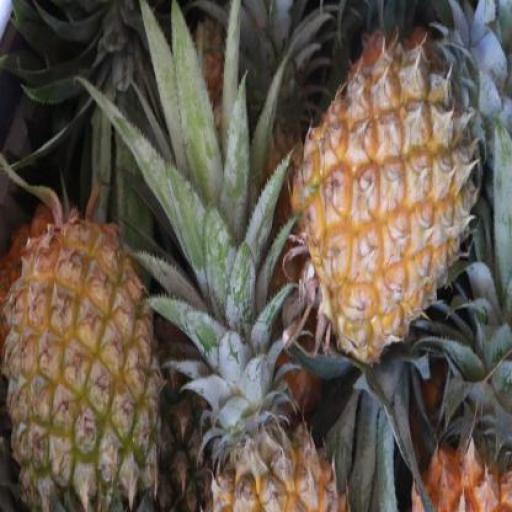------------------------------: (3, 213, 163, 512)
Pineapple - v8 v1: (281, 45, 494, 365)
